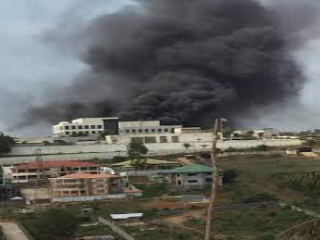smoke: (76, 3, 296, 119)
